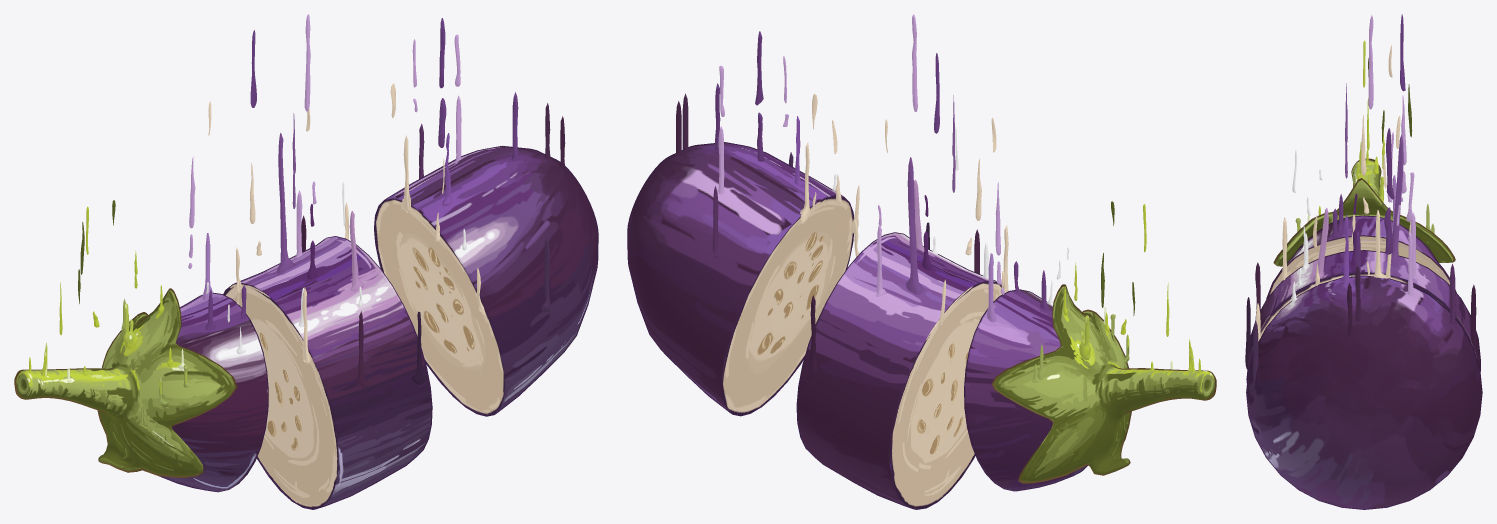
Rendered from vitamin_bomb_the_brinjal_bomb.glb.
3 views of the same model, side by side, from view 1: azimuth 30°, elevation 25°; view 2: azimuth 150°, elevation 25°; view 3: azimuth 270°, elevation 25° (orthographic). The views are drawn at different scales.
Parts seen in each view (by area): view 1: Cylinder.001_4, Cylinder_2, Cylinder.003_6, Cylinder.002_5, Cylinder.008_7, Mball.021_45; view 2: Cylinder.001_4, Cylinder_2, Cylinder.003_6, Cylinder.002_5, Cylinder.008_7, Mball.021_45; view 3: Cylinder.001_4, Cylinder_2, Cylinder.002_5, Cylinder.003_6, Mball.021_45, Cylinder.008_7, Cube.016_79, Mball.049_75, Mball.045_72, Mball.056_81, Mball.028_52, Mball.030_54 (+8 smaller).
Boxes of the visible parts, bbox=[...] form: Cylinder.001_4: bbox=[374, 145, 598, 416]; Cylinder_2: bbox=[223, 236, 432, 509]; Cylinder.003_6: bbox=[16, 290, 235, 476]; Cylinder.002_5: bbox=[159, 292, 268, 492]; Cylinder.008_7: bbox=[14, 288, 237, 477]; Mball.021_45: bbox=[277, 133, 295, 273]; Cylinder.001_4: bbox=[627, 142, 853, 416]; Cylinder_2: bbox=[796, 232, 1003, 509]; Cylinder.003_6: bbox=[993, 286, 1214, 481]; Cylinder.002_5: bbox=[964, 289, 1087, 491]; Cylinder.008_7: bbox=[991, 284, 1216, 483]; Mball.021_45: bbox=[905, 157, 923, 294]; Cylinder.001_4: bbox=[1246, 275, 1482, 509]; Cylinder_2: bbox=[1246, 250, 1480, 382]; Cylinder.002_5: bbox=[1266, 215, 1456, 298]; Cylinder.003_6: bbox=[1275, 160, 1453, 266]; Mball.021_45: bbox=[1390, 134, 1403, 267]; Cylinder.008_7: bbox=[1273, 158, 1455, 266]; Cube.016_79: bbox=[1368, 15, 1373, 109]; Mball.049_75: bbox=[1312, 208, 1328, 280]; Mball.045_72: bbox=[1386, 128, 1394, 199]; Mball.056_81: bbox=[1471, 284, 1480, 365]; Mball.028_52: bbox=[1374, 210, 1388, 278]; Mball.030_54: bbox=[1249, 321, 1258, 394].
Bounding box in the file's own units: 58.78 × 47.95 × 21.84.
3 materials, 1 textured.
